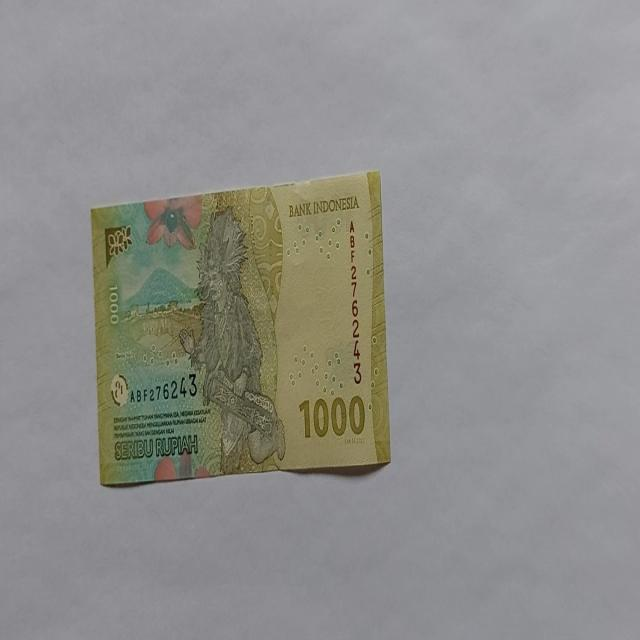seribu rupiah kertas: (90, 168, 391, 486)
